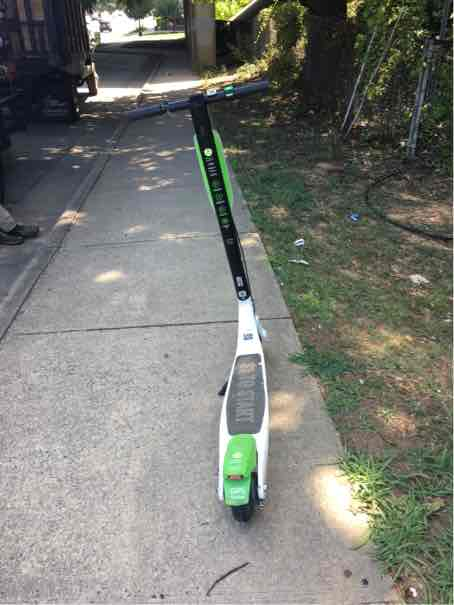scooter: (118, 76, 303, 524)
